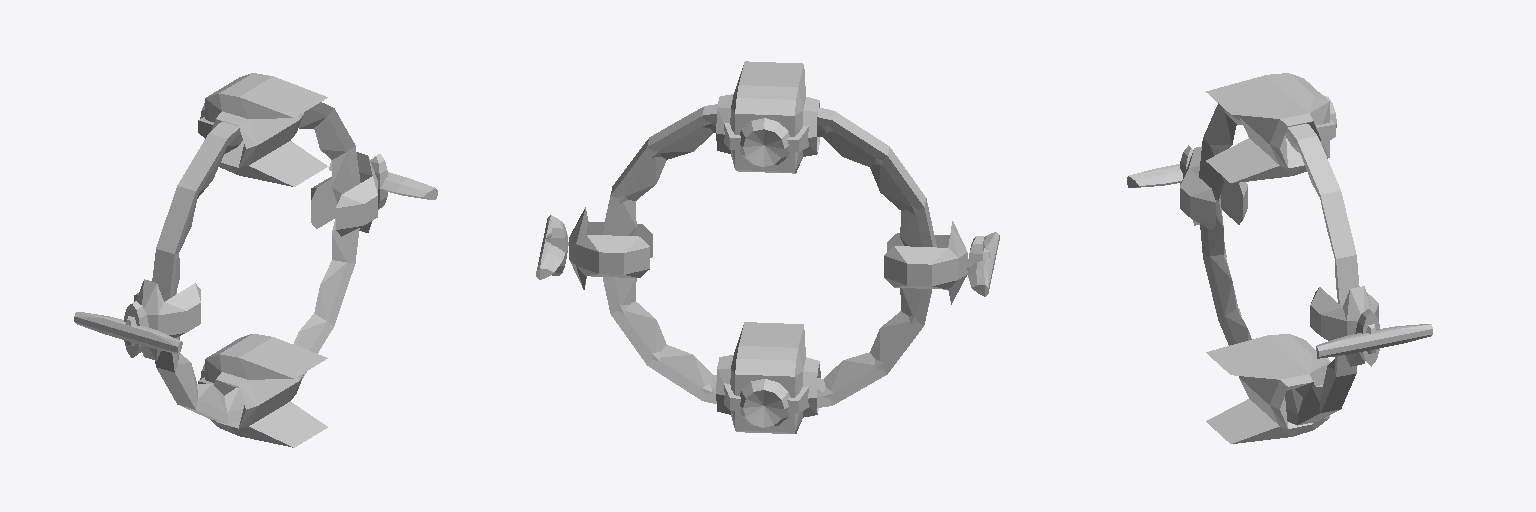
Rendered from stg300_MotGate_d1_04.obj.
The picture shows the model from 3 angles: view 1: azimuth 30°, elevation 25°; view 2: azimuth 150°, elevation 25°; view 3: azimuth 270°, elevation 25°; orthographic projection.
Visible parts, largest first — view 1: polygon0, polygon6, polygon7, polygon4, polygon3, polygon1, polygon5; view 2: polygon0, polygon7, polygon6, polygon1, polygon3, polygon5, polygon4, polygon2; view 3: polygon0, polygon6, polygon7, polygon2, polygon5, polygon3.
Part boxes in pixels (bbox=[...]): polygon0: bbox=[134, 73, 377, 447]; polygon6: bbox=[152, 102, 360, 423]; polygon7: bbox=[173, 109, 351, 412]; polygon4: bbox=[74, 301, 182, 357]; polygon3: bbox=[329, 160, 434, 201]; polygon1: bbox=[187, 196, 377, 331]; polygon5: bbox=[78, 312, 180, 346]; polygon0: bbox=[569, 61, 967, 433]; polygon7: bbox=[613, 122, 922, 396]; polygon6: bbox=[602, 104, 936, 407]; polygon1: bbox=[599, 129, 931, 427]; polygon3: bbox=[540, 215, 568, 271]; polygon5: bbox=[967, 232, 995, 287]; polygon4: bbox=[970, 232, 999, 296]; polygon2: bbox=[536, 215, 566, 279]; polygon0: bbox=[1180, 73, 1378, 443]; polygon6: bbox=[1199, 103, 1359, 425]; polygon7: bbox=[1206, 111, 1337, 413]; polygon2: bbox=[1316, 309, 1432, 366]; polygon5: bbox=[1129, 161, 1187, 187]; polygon3: bbox=[1317, 322, 1429, 353].
Bounding box in the file's own units: 247 × 199 × 163.